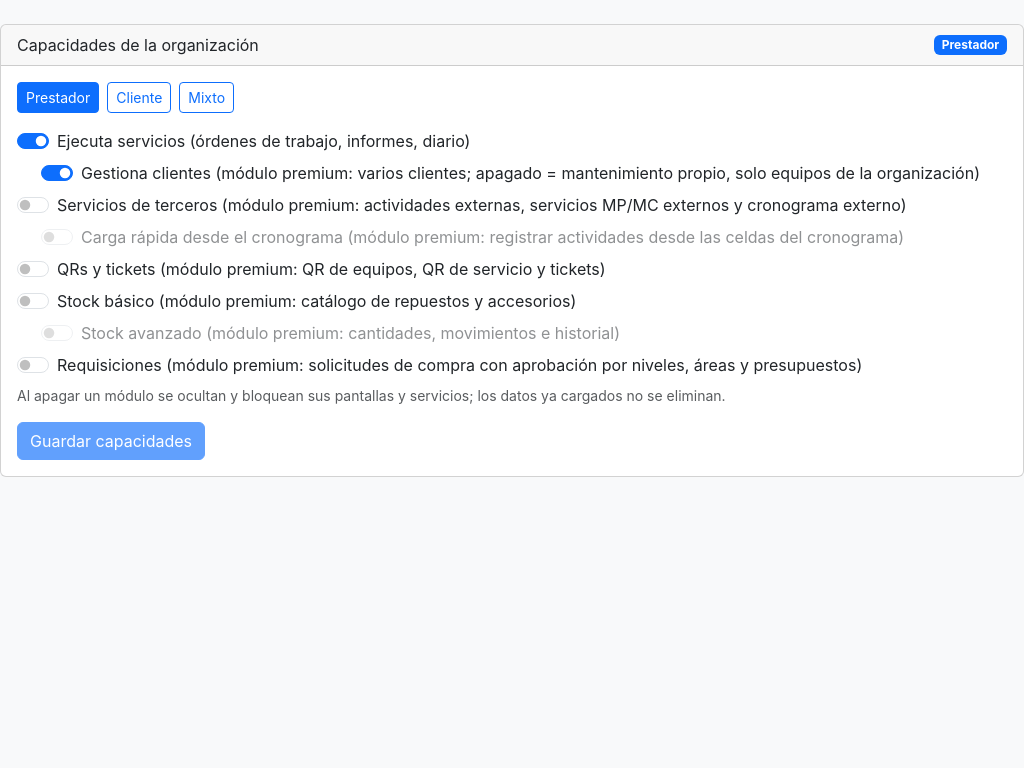
Test case: TenantCapabilitiesPanel › falls back to a manual id when the 409 carries no candidates
What coordinates should you click on to do the following:
click the button "Cliente"
I would click on:
 (139, 98)
Its box is x1=107 y1=82 x2=171 y2=113.
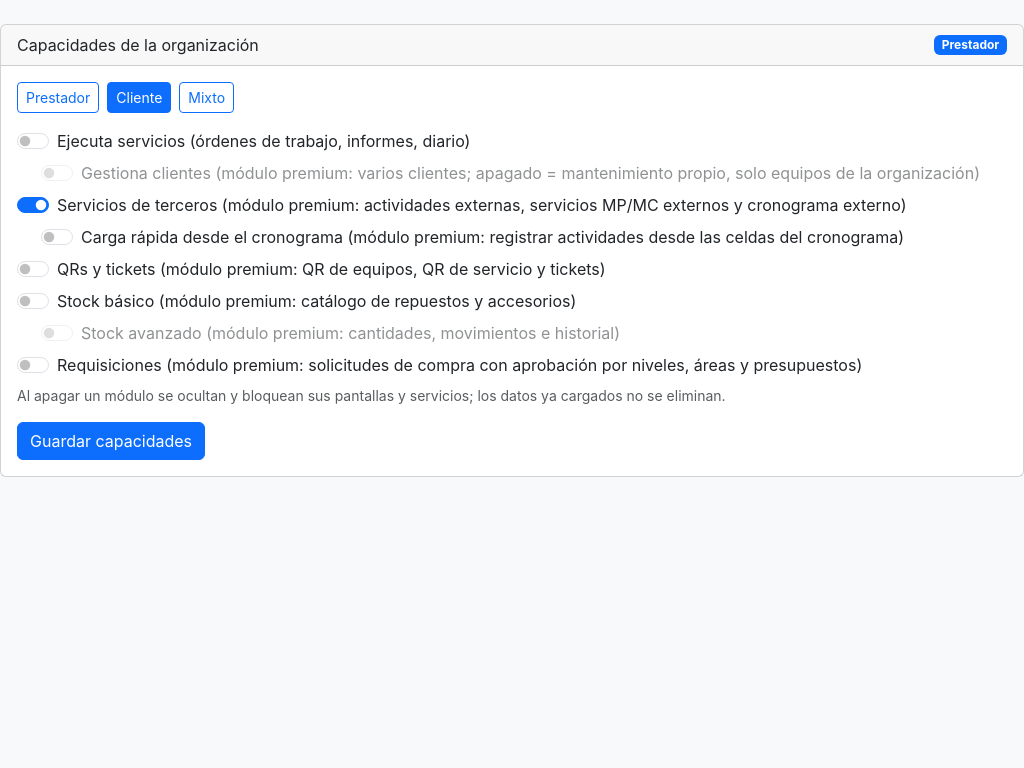
What coordinates should you click on to do the following:
click the button "Guardar capacidades"
I would click on:
 (111, 441)
Its box is x1=17 y1=422 x2=205 y2=460.
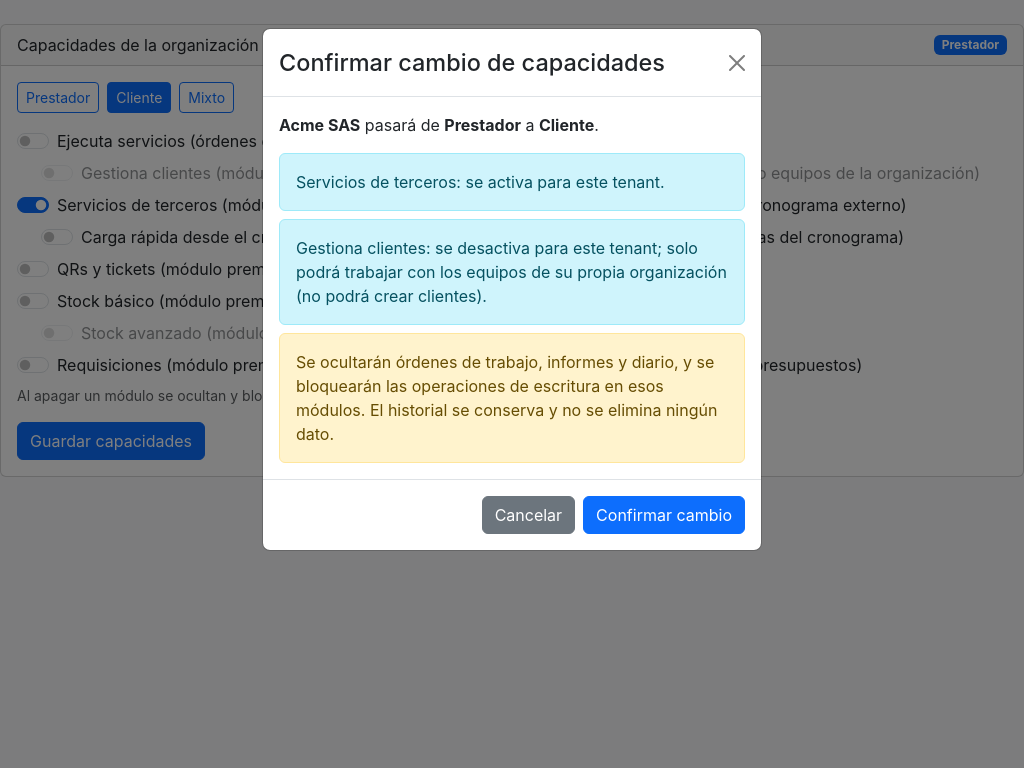
What coordinates should you click on to do the following:
click the button "Confirmar cambio"
I would click on:
 (664, 515)
Its box is x1=583 y1=496 x2=745 y2=534.
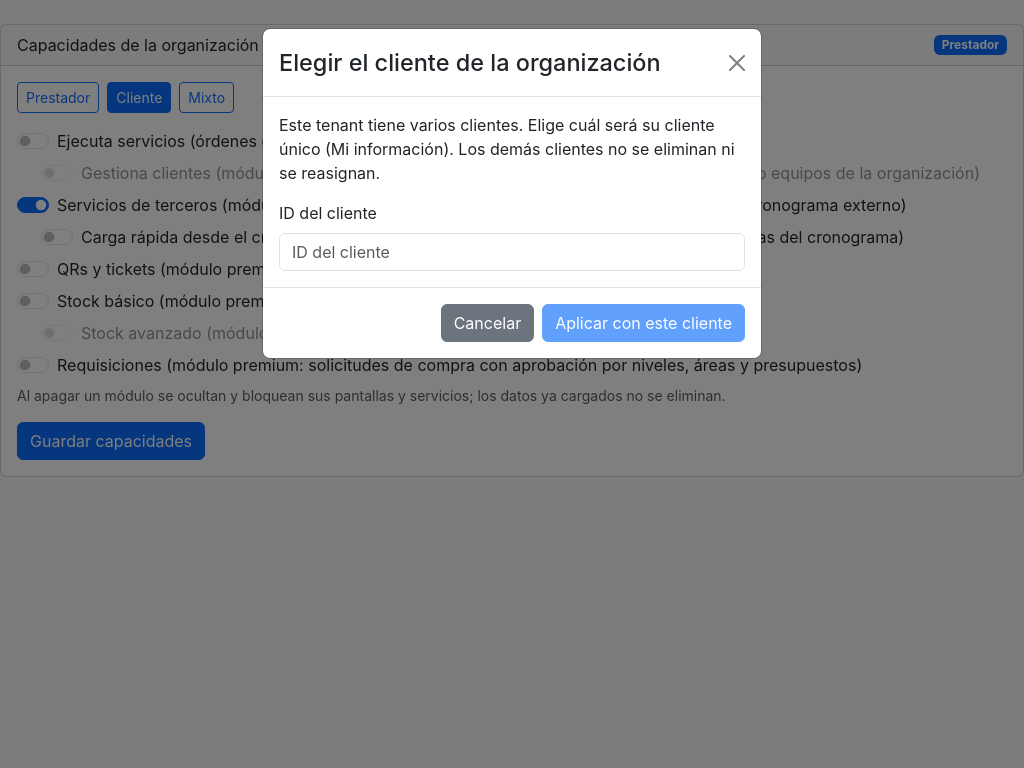
expect the field named "ID del cliente de la organización" is shown: met, box x1=279 y1=233 x2=745 y2=271
